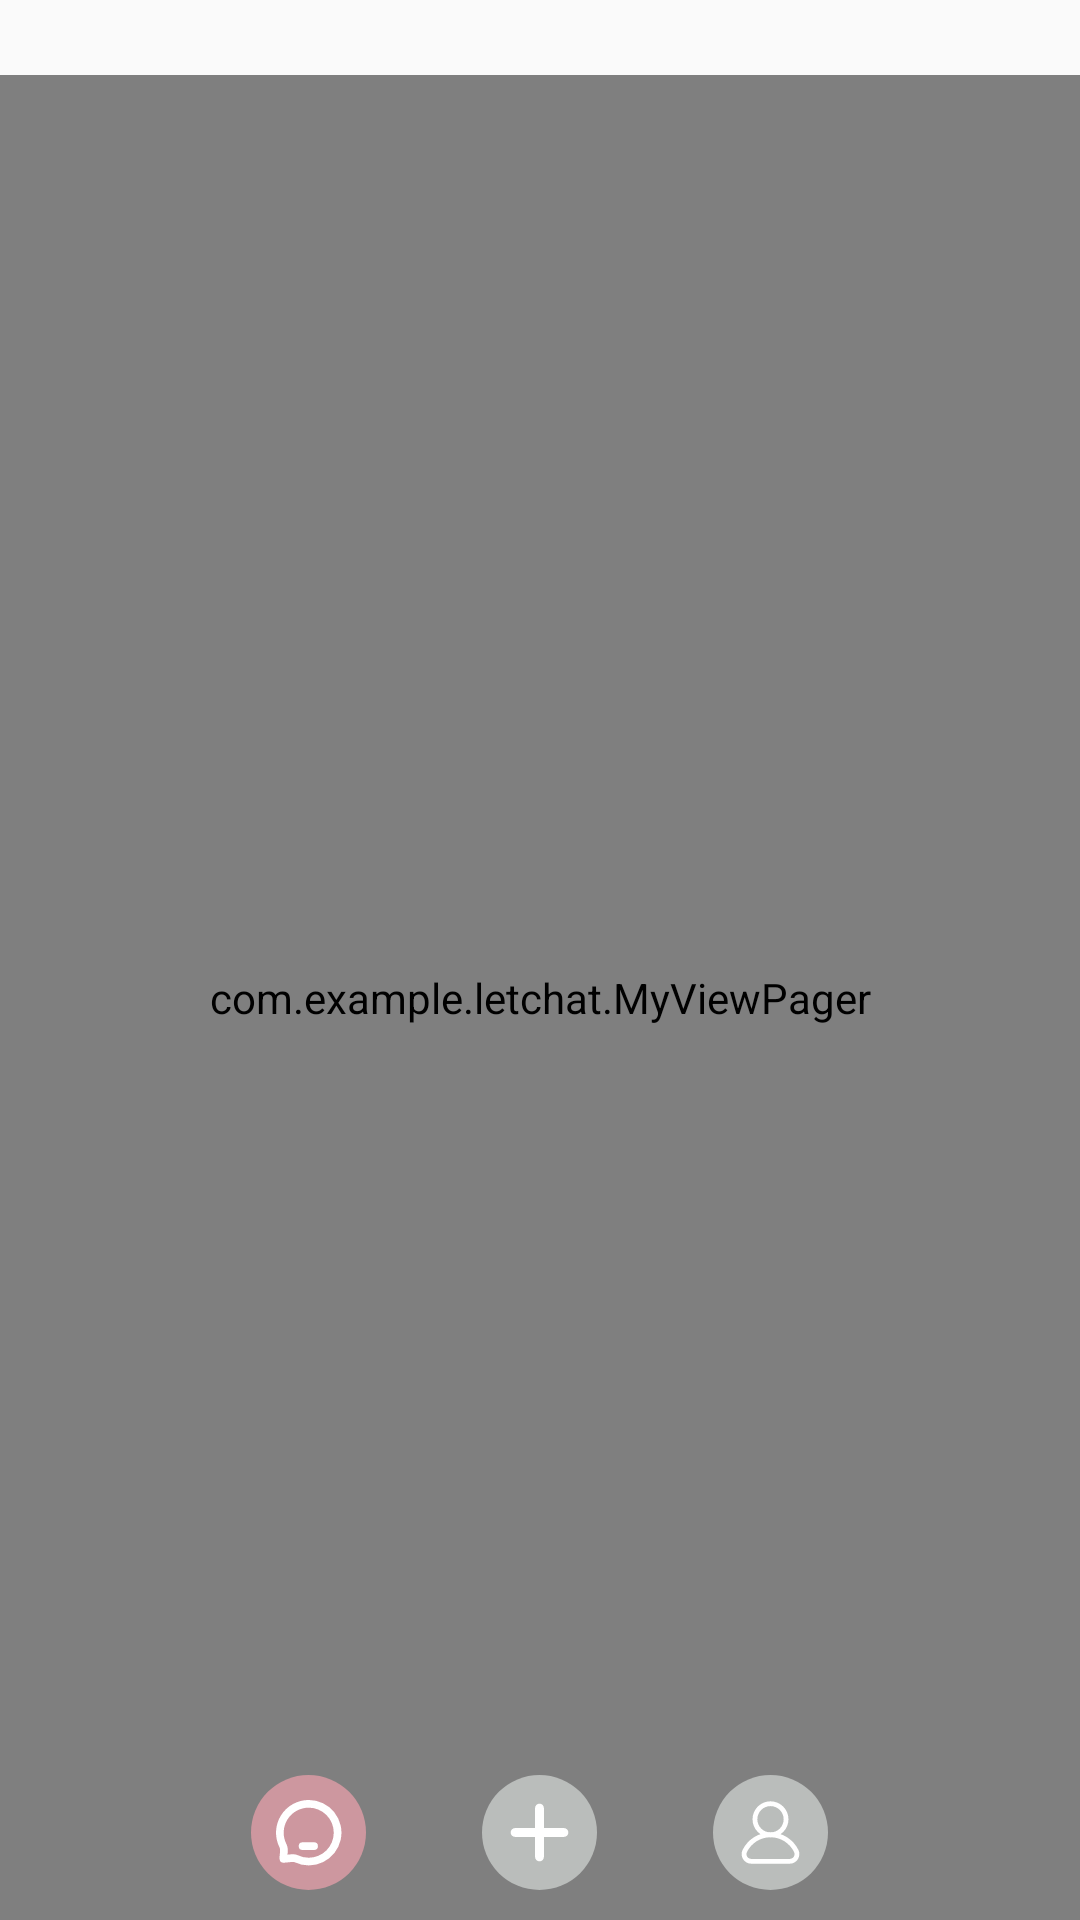

Icon bounding boxes for this 1080 × 1920 phone screenshot, format [x1, y1, x2, y2]:
user: [713, 1775, 828, 1890]
